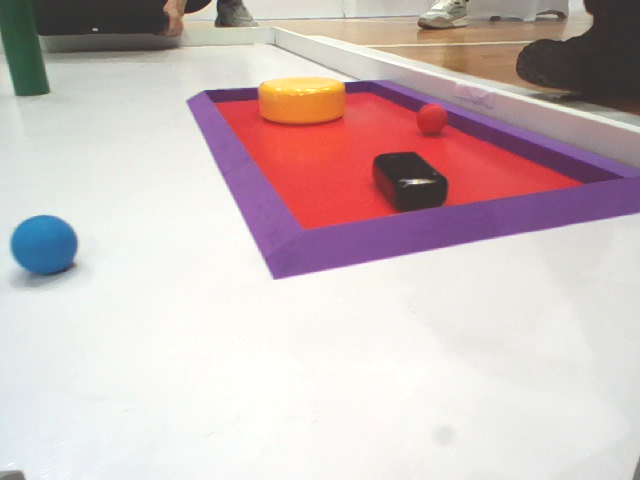black: (368, 147, 455, 215)
blue: (11, 209, 86, 271)
kuang: (183, 80, 640, 280)
red: (416, 102, 451, 132)
yellow: (257, 72, 349, 126)
zhuzi: (1, 1, 54, 98)
